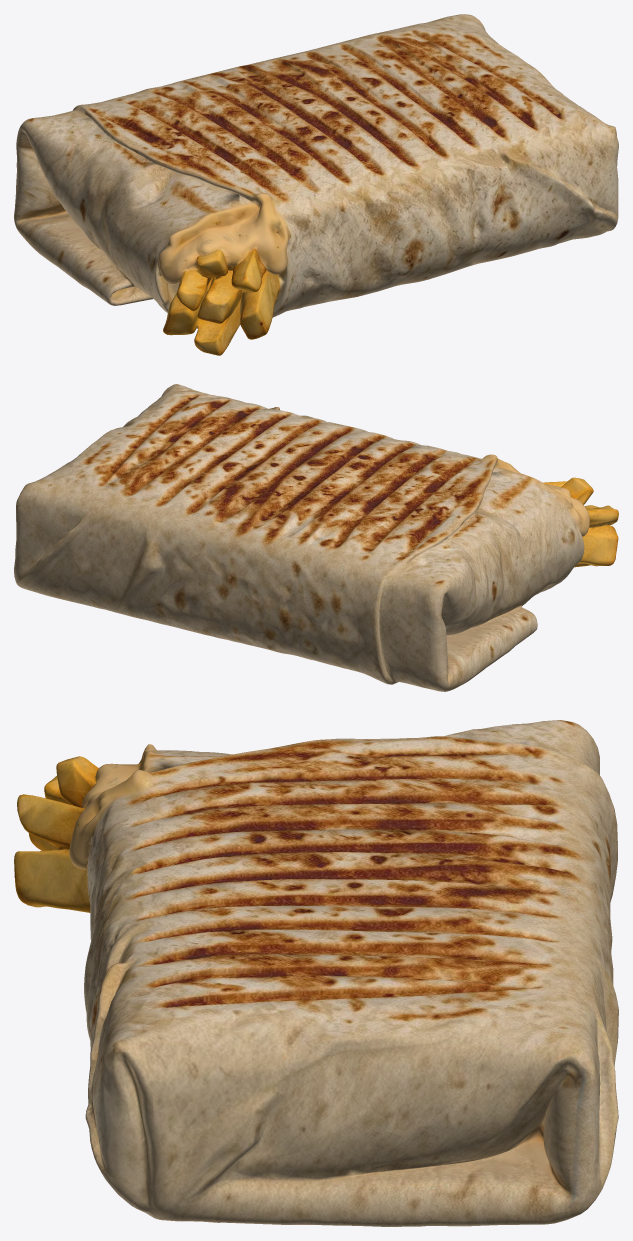
Rendered from tacos.glb.
3 renders of one model, top to bottom at view 1: azimuth 30°, elevation 25°; view 2: azimuth 150°, elevation 25°; view 3: azimuth 270°, elevation 25°, orthographic. The views are drawn at different scales.
Bounding box in the file's own units: 1.9 × 0.51 × 1.39.
1 material, 1 textured.
